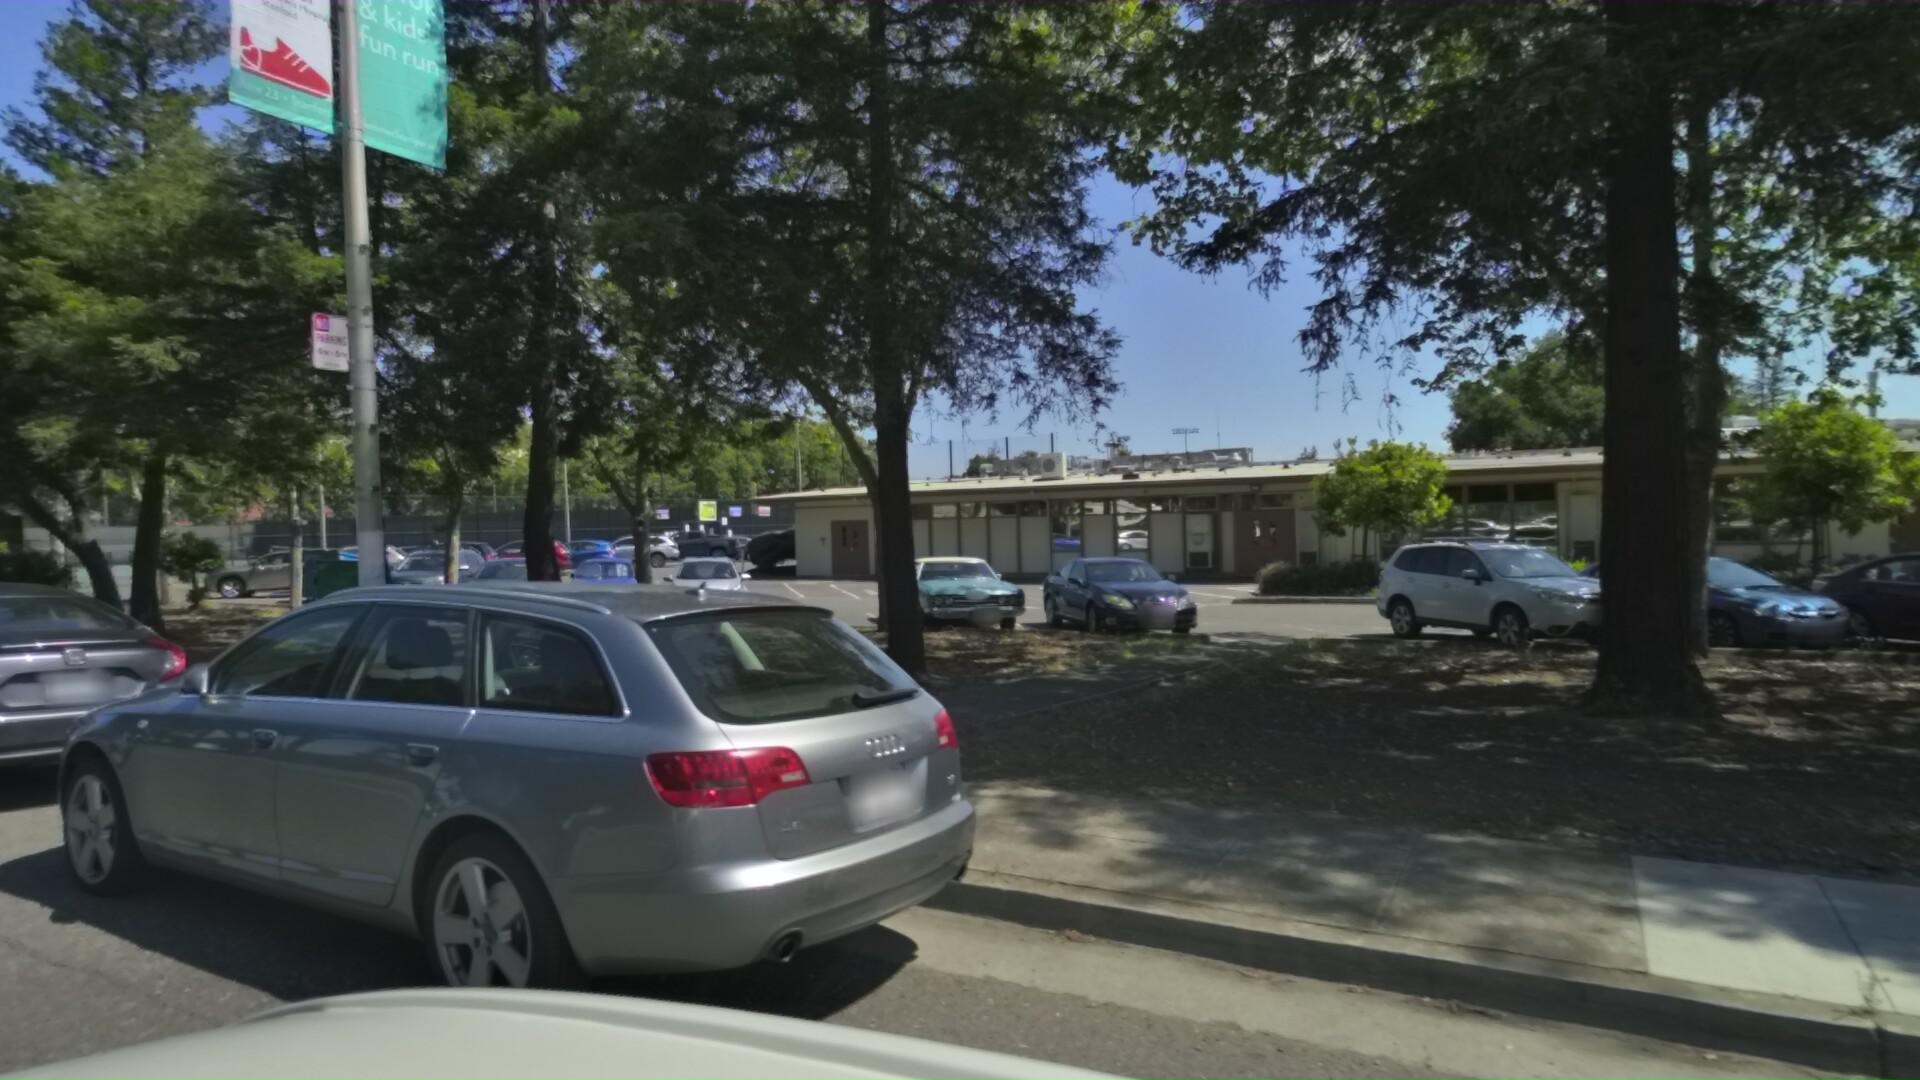car: (0, 550, 1164, 1080), (0, 556, 273, 866)
